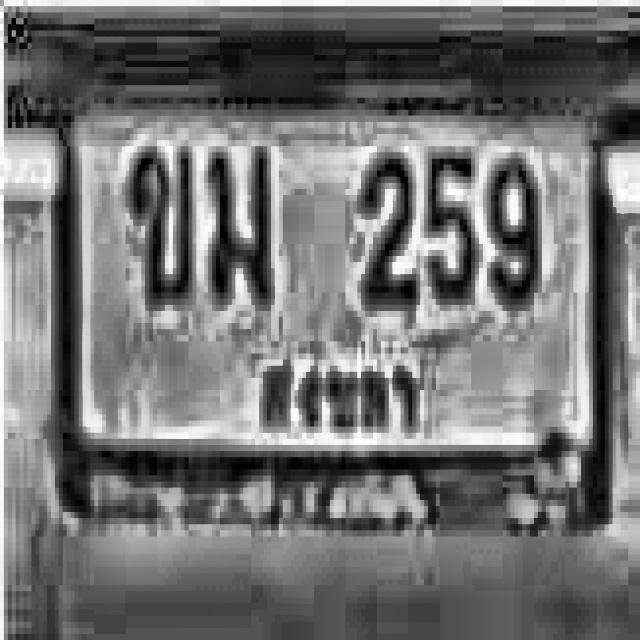license-plate: (51, 81, 616, 555)
